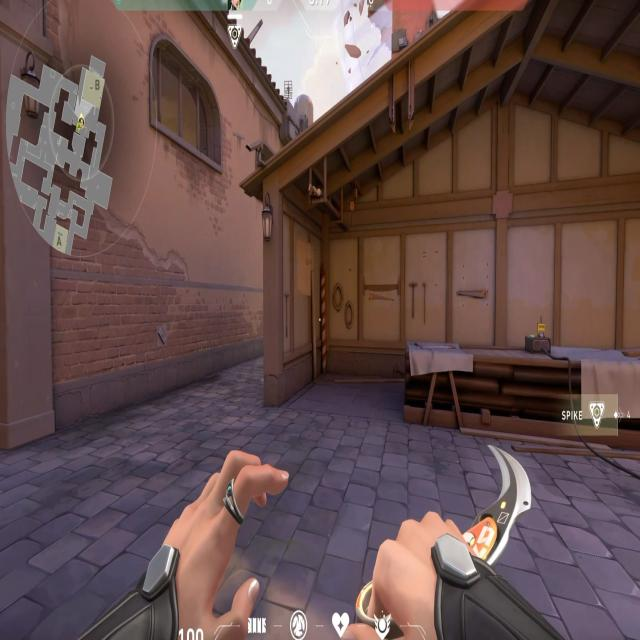B_Garage_Left: (252, 188, 421, 432)
Throwables: (141, 19, 235, 193)
